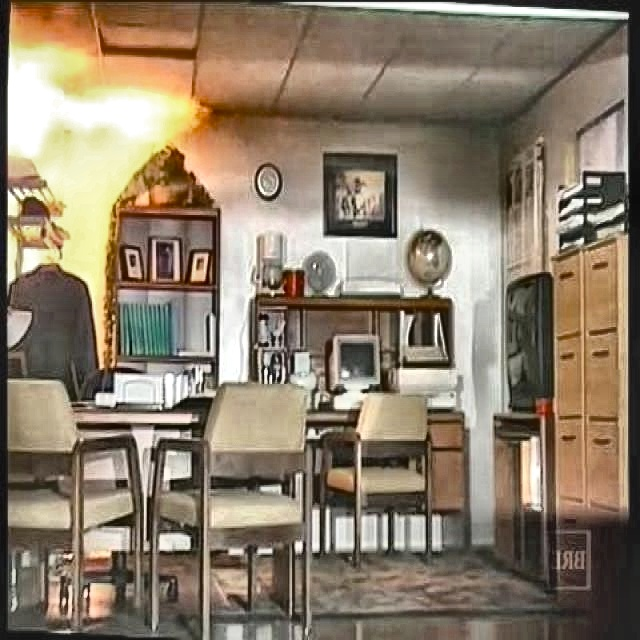fire: (0, 71, 183, 147)
